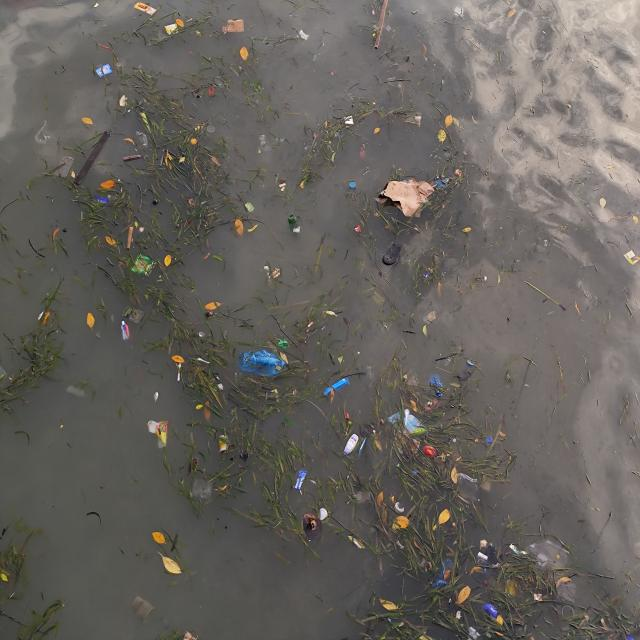Botol Plastik: (285, 213, 301, 234)
Bungkus Makanan: (132, 251, 158, 280), (322, 377, 353, 399), (155, 418, 171, 453), (135, 2, 159, 19), (295, 469, 309, 494), (482, 601, 500, 619), (166, 21, 182, 37), (298, 30, 312, 44), (344, 113, 354, 129)
Bungkus Minuman: (132, 594, 158, 622), (121, 303, 147, 326), (96, 62, 114, 81)
Kantong Plastik: (522, 538, 572, 577), (239, 347, 287, 382), (431, 557, 457, 594), (456, 471, 481, 504), (193, 477, 216, 501), (429, 373, 446, 400)
